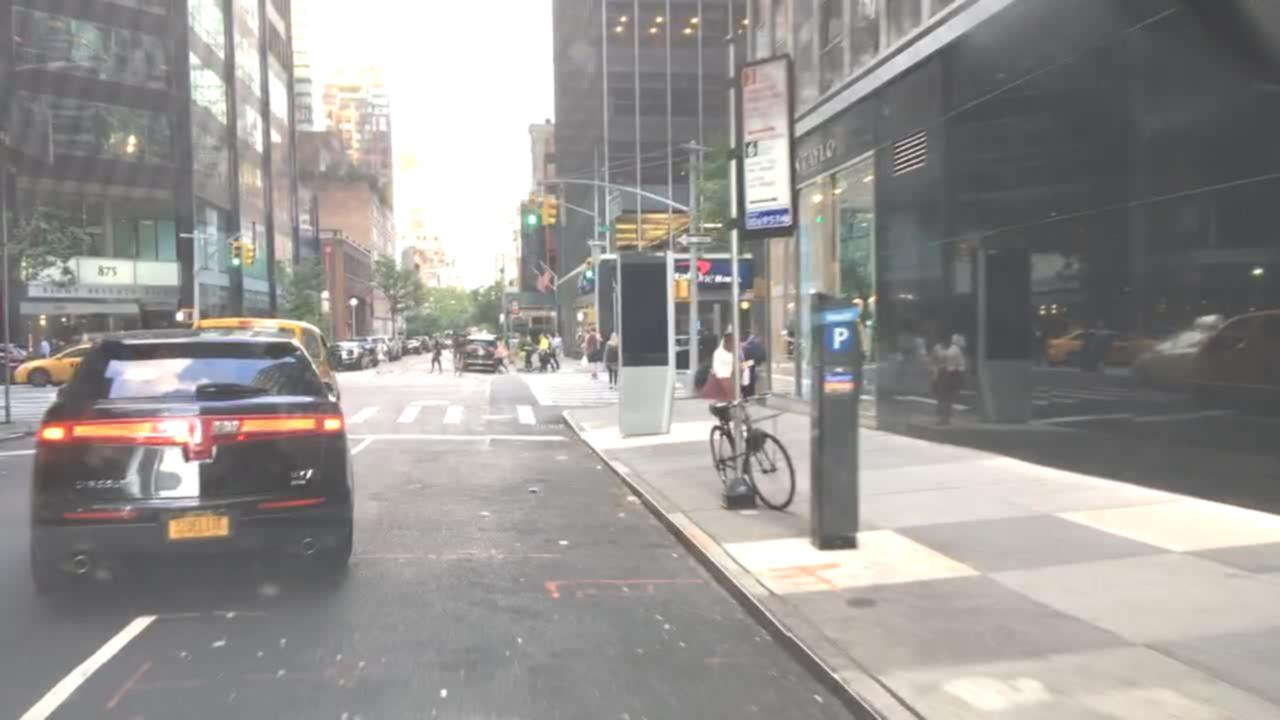lincoln: (189, 412, 211, 452)
